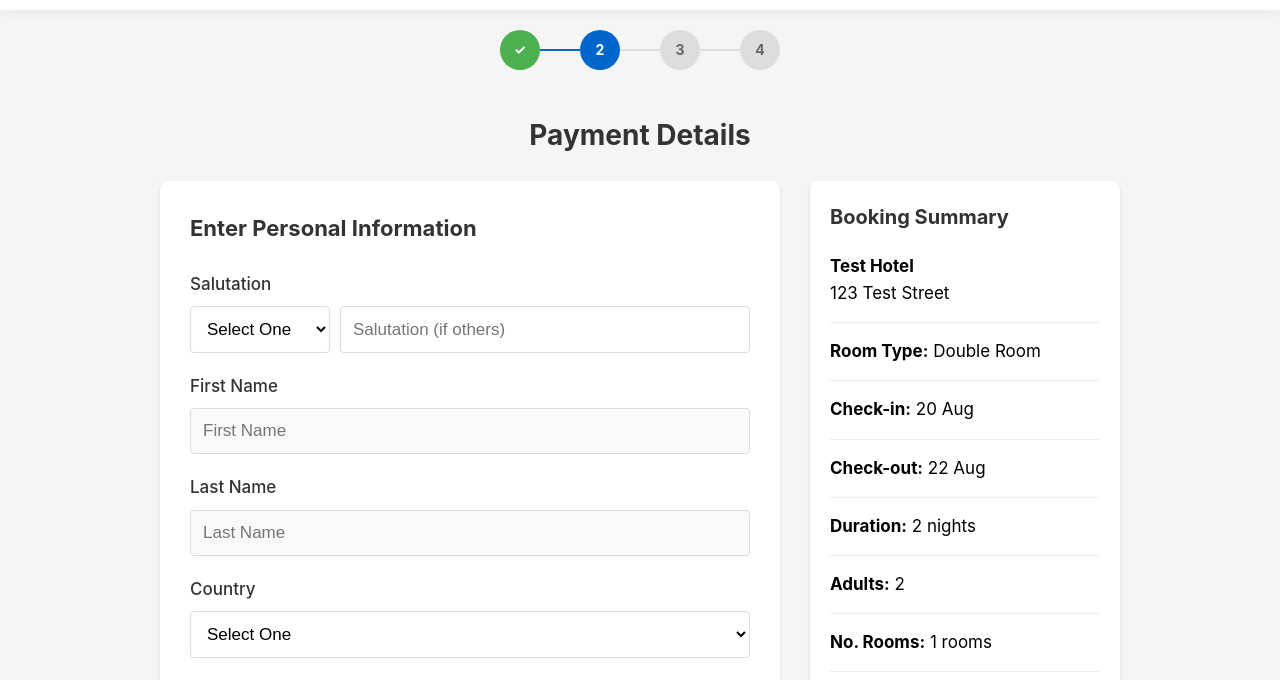
Test: GuestInfoPage › renders submits form and renders error with invalid inputs
Note: Select country and salutation
Step 1. Select "Singapore" in the dropdown labelled "Country" → (470, 634), box [190,611,750,658]
Step 2. Select "Mrs" in the dropdown named "Salutation" → (260, 330), box [190,306,330,353]
(page scrolled)
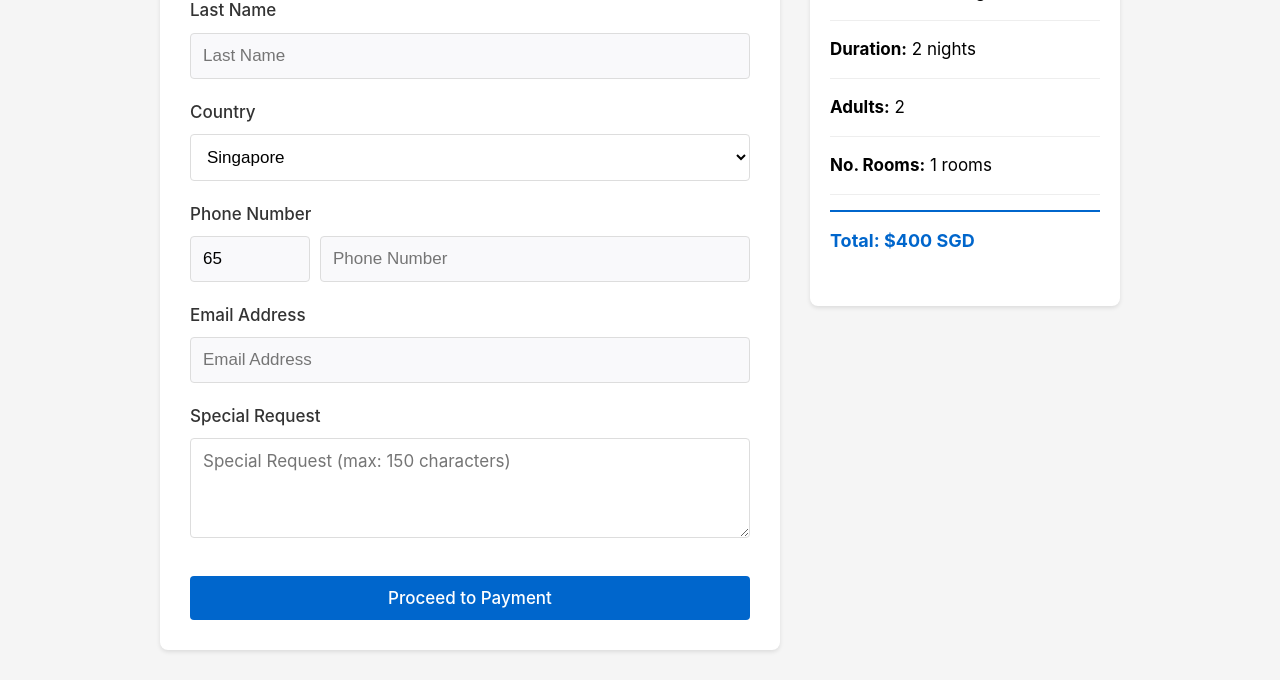
Step 3. Type "te1st@example.com" into the field with placeholder "Email Address" → (470, 360), box [190,337,750,383]
(page scrolled)
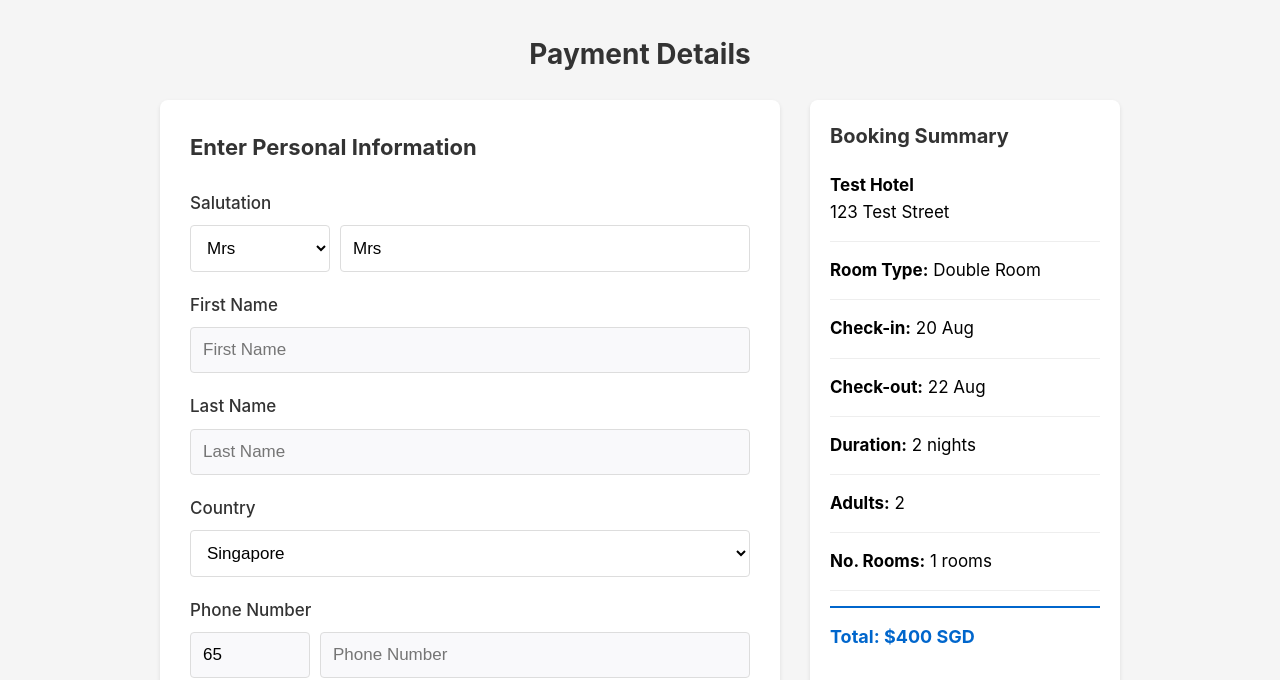
Step 4. Type "John" into the field with placeholder "First Name" → (470, 350), box [190,327,750,373]
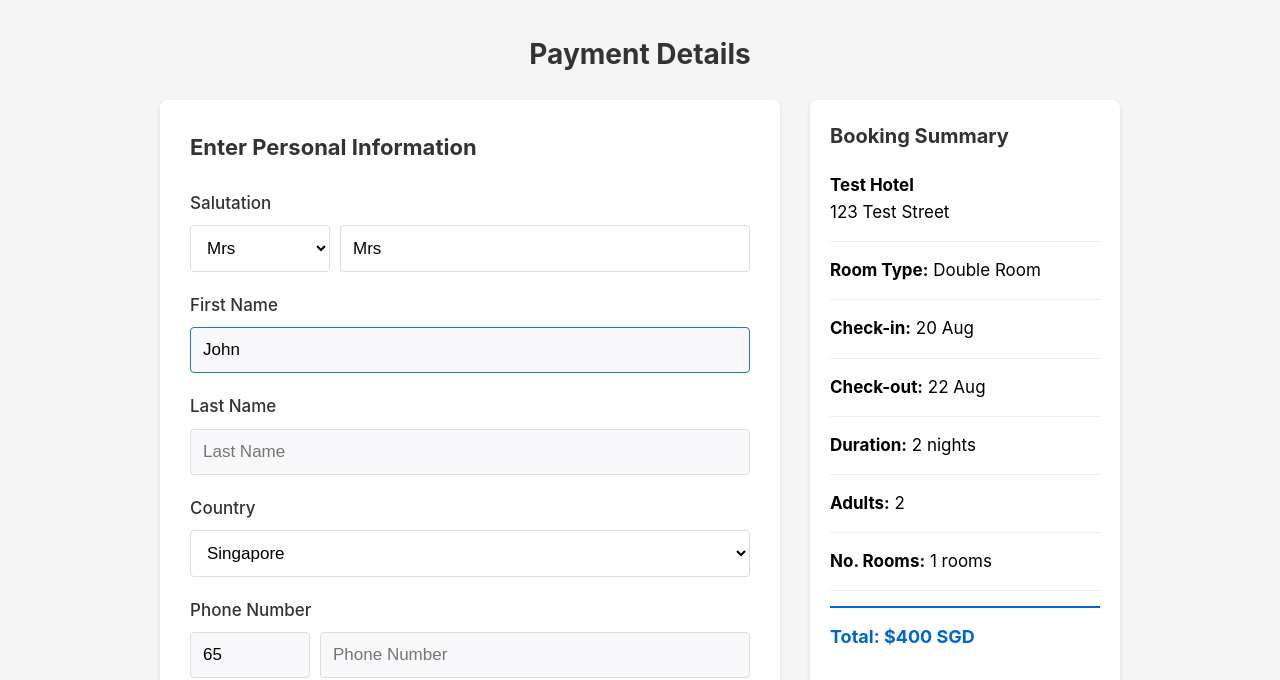
Step 5. Type "Doe" into the field with placeholder "Last Name" → (470, 452), box [190,428,750,474]
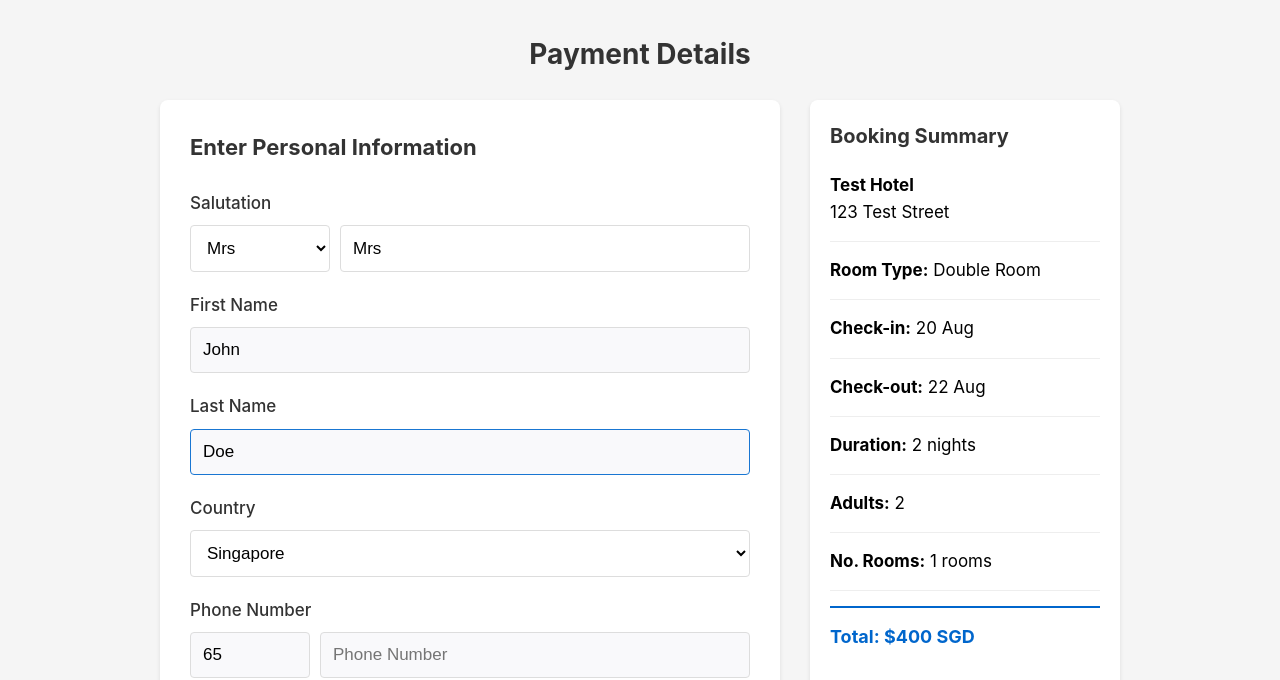
Step 6. Type "12345678a" into the field with placeholder "Phone Number" → (535, 655), box [320,632,750,678]
(page scrolled)
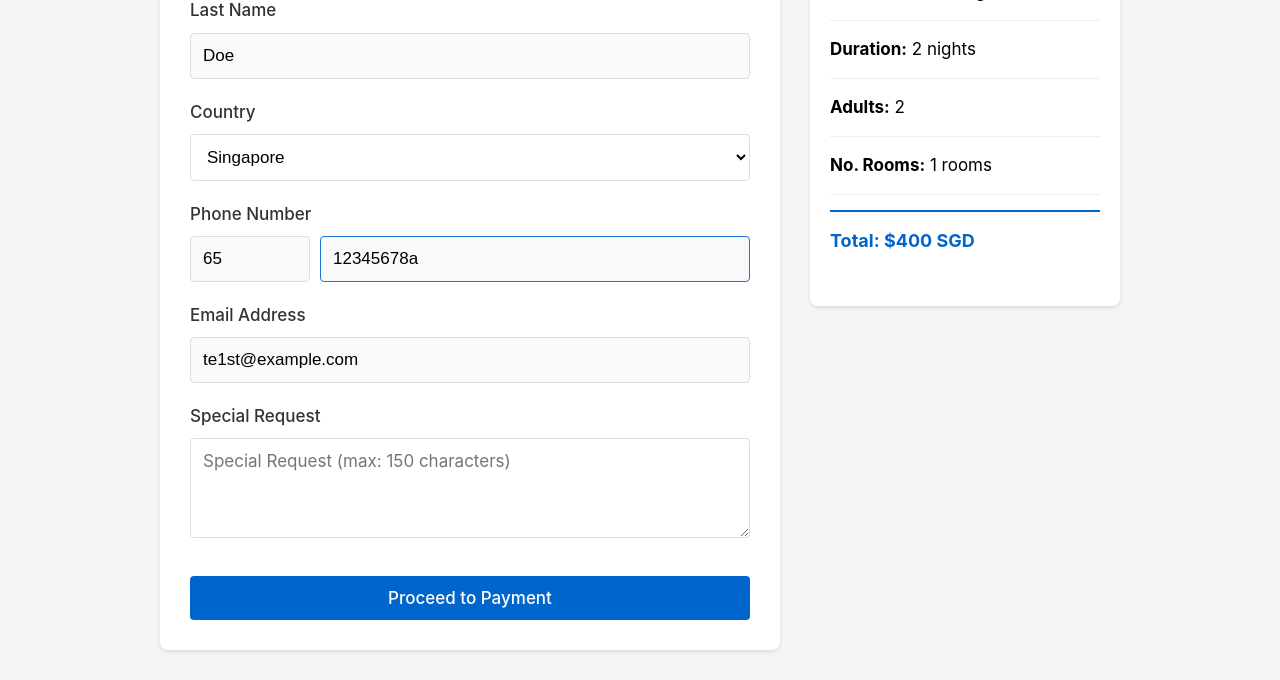
Step 7. Click the button "Proceed to Payment" → click(470, 598), box [190,576,750,620]
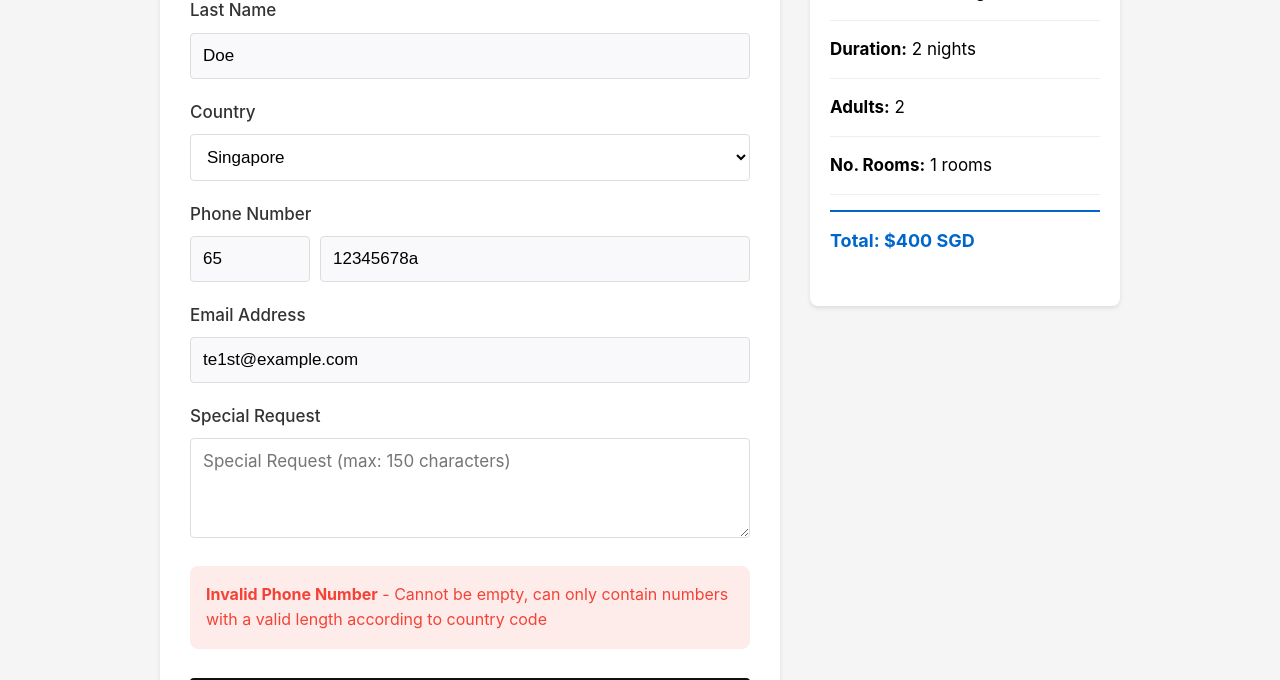
Expected: the text "Invalid Phone Number" is shown, [206,584,378,604]
